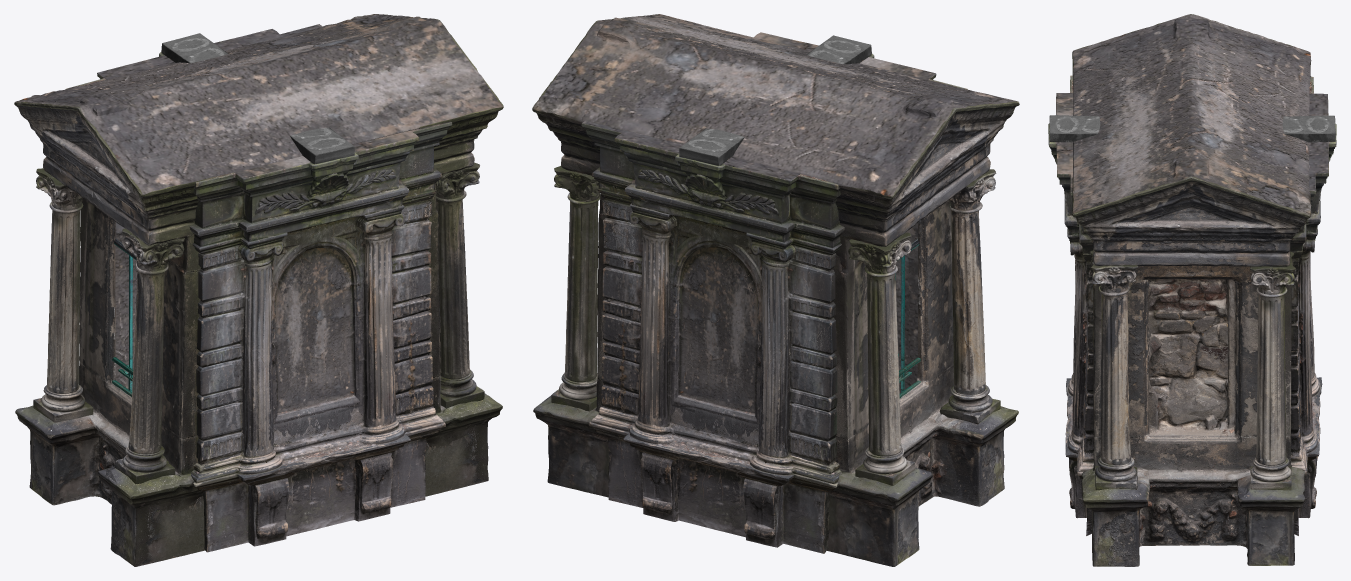
Rendered from sm_Grave_03_05.fbx.
The picture shows the model from 3 angles, left to right: view 1: azimuth 30°, elevation 25°; view 2: azimuth 150°, elevation 25°; view 3: azimuth 270°, elevation 25°; orthographic projection. The views are drawn at different scales.
Parts seen in each view (by area): view 1: sm_Grave_03_05_LOD0; view 2: sm_Grave_03_05_LOD0; view 3: sm_Grave_03_05_LOD0.
Part boxes in pixels (x1,y1,x2,y2): sm_Grave_03_05_LOD0: (14, 14, 503, 566); sm_Grave_03_05_LOD0: (532, 14, 1019, 566); sm_Grave_03_05_LOD0: (1048, 14, 1336, 566).
Bounding box in the file's own units: 310 × 224 × 337.
